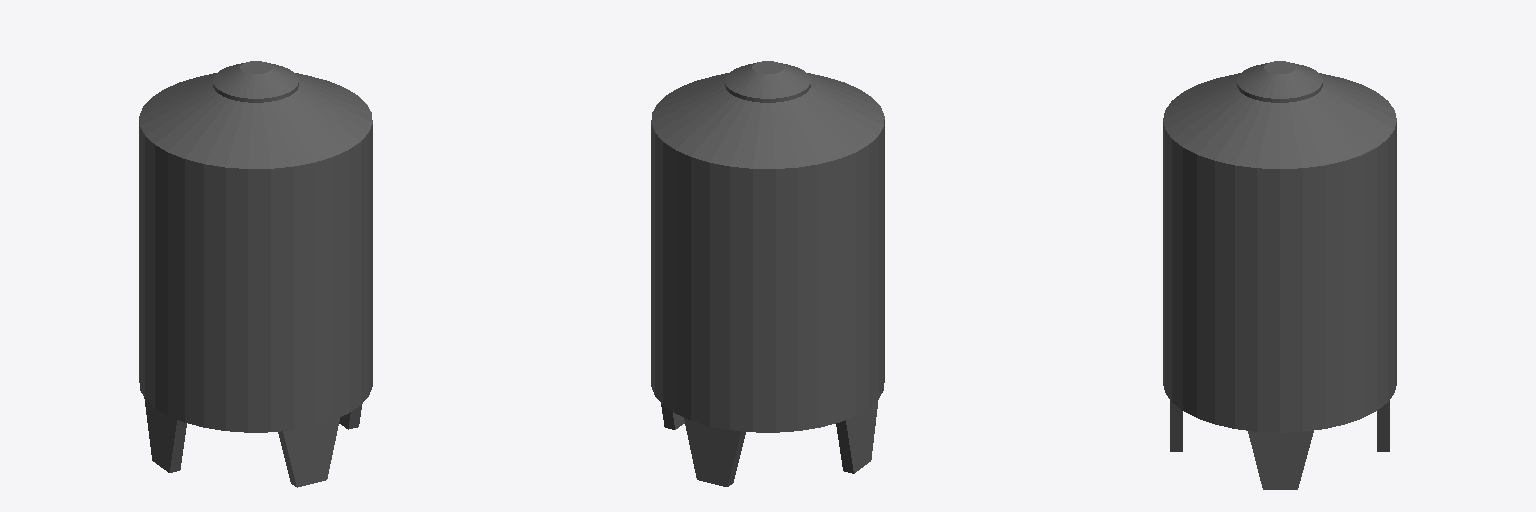
File: cuve.obj
3 renders of one model, left to right at view 1: azimuth 30°, elevation 25°; view 2: azimuth 150°, elevation 25°; view 3: azimuth 270°, elevation 25°, orthographic.
Visible parts, largest first — view 1: Cube.10108_Cube.11538; view 2: Cube.10108_Cube.11538; view 3: Cube.10108_Cube.11538.
Boxes of the visible parts, <box> form: Cube.10108_Cube.11538: <box>139,61,372,487</box>; Cube.10108_Cube.11538: <box>651,61,884,486</box>; Cube.10108_Cube.11538: <box>1163,61,1396,489</box>.
Bounding box in the file's own units: 0.8397 × 1.49 × 0.8397.